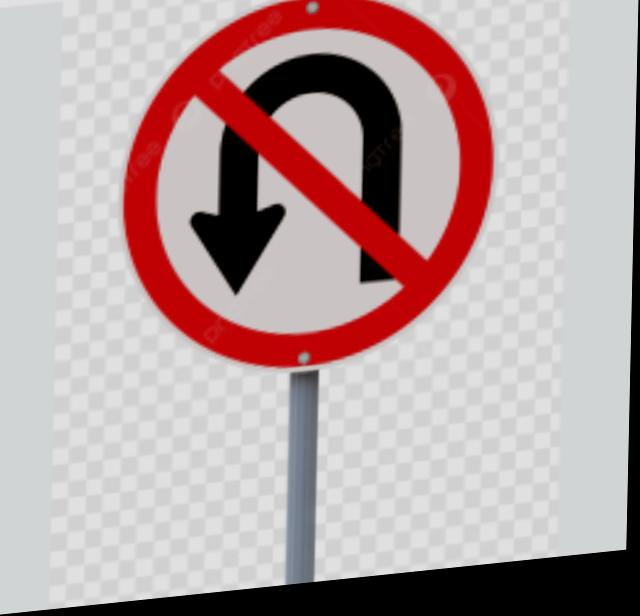not_u_turn_left: (103, 0, 509, 392)
